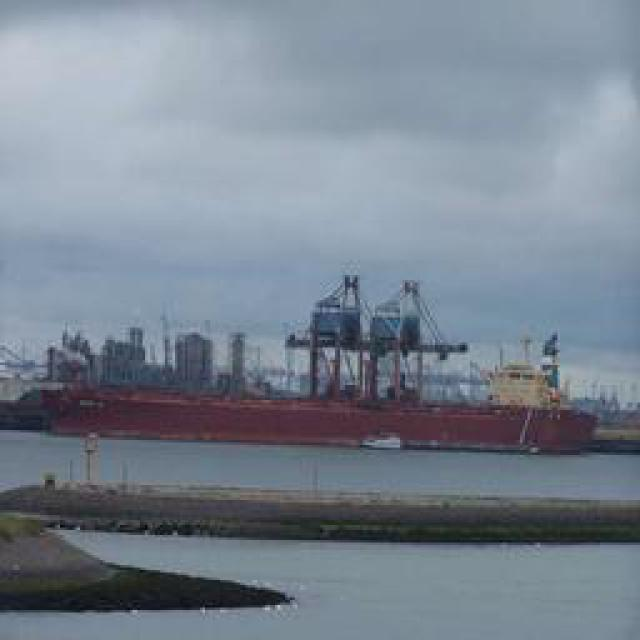Ship: (42, 352, 592, 455)
